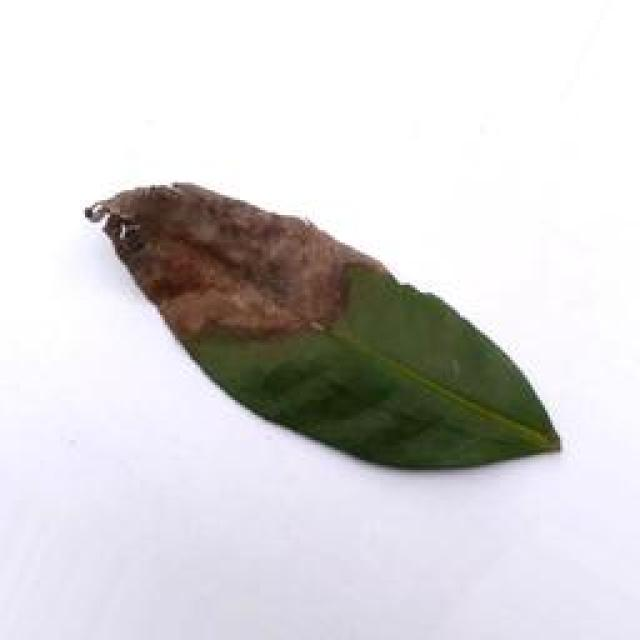Brown Blight: (79, 160, 578, 486)
